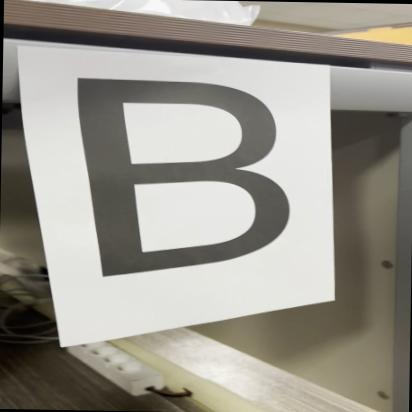seat: (64, 71, 323, 306)
